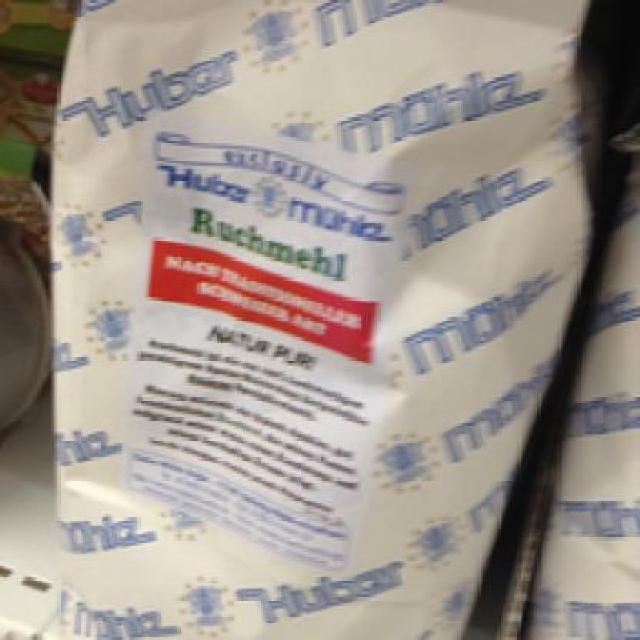Flour: (41, 0, 592, 635)
